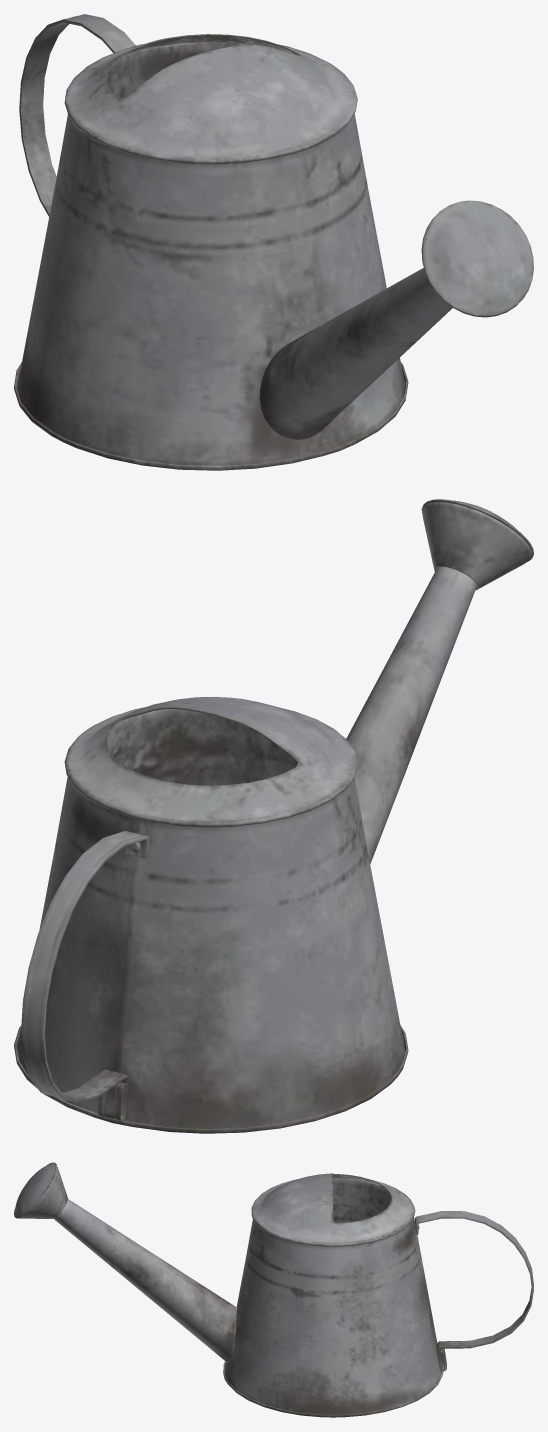
File: watering_can_metal_01.glb
3 renders of one model, top to bottom at view 1: azimuth 30°, elevation 25°; view 2: azimuth 150°, elevation 25°; view 3: azimuth 270°, elevation 25°, orthographic. The views are drawn at different scales.
Visible parts, largest first — view 1: watering_can_metal_01; view 2: watering_can_metal_01; view 3: watering_can_metal_01.
Part boxes in pixels (x1,y1,x2,y2): watering_can_metal_01: [14, 14, 533, 470]; watering_can_metal_01: [14, 499, 533, 1133]; watering_can_metal_01: [14, 1162, 533, 1417].
Size of the model in its own units: 0.191 by 0.1968 by 0.4523.
Materials: 1 (1 with a texture image).
